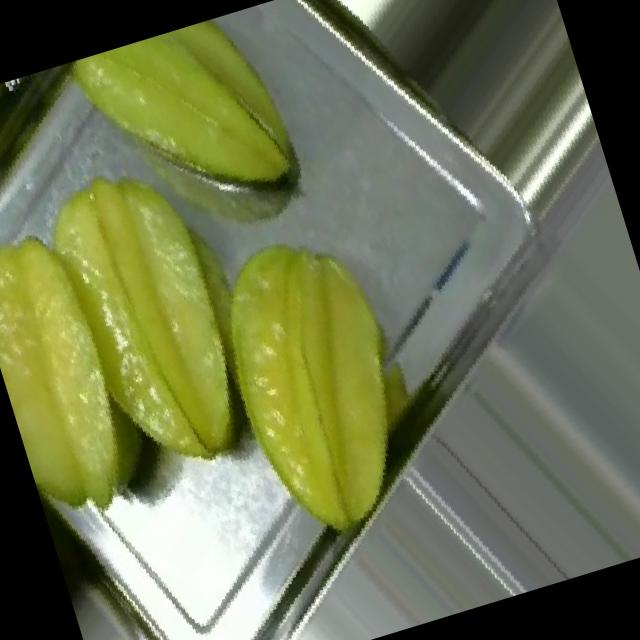fruit: (0, 85, 396, 552), (108, 168, 516, 604), (41, 0, 351, 284)
